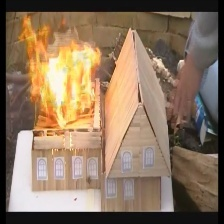fire: (20, 17, 103, 128)
